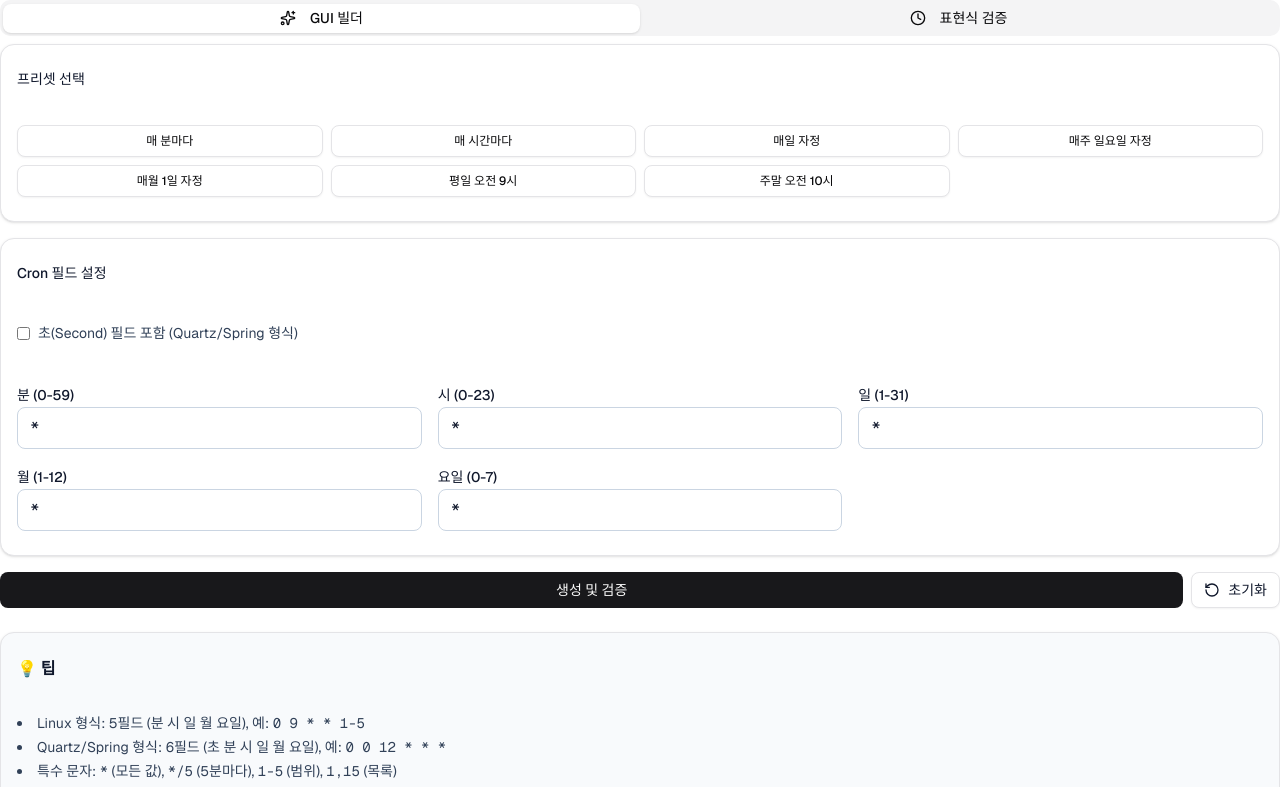
it: CronExpressionGenerator Component › 모드 전환 테스트 › 표현식 검증 탭 클릭 시 입력 필드 변경
Step 1. Click the tab "표현식 검증" → x=958, y=18, box [640,4,1277,32]
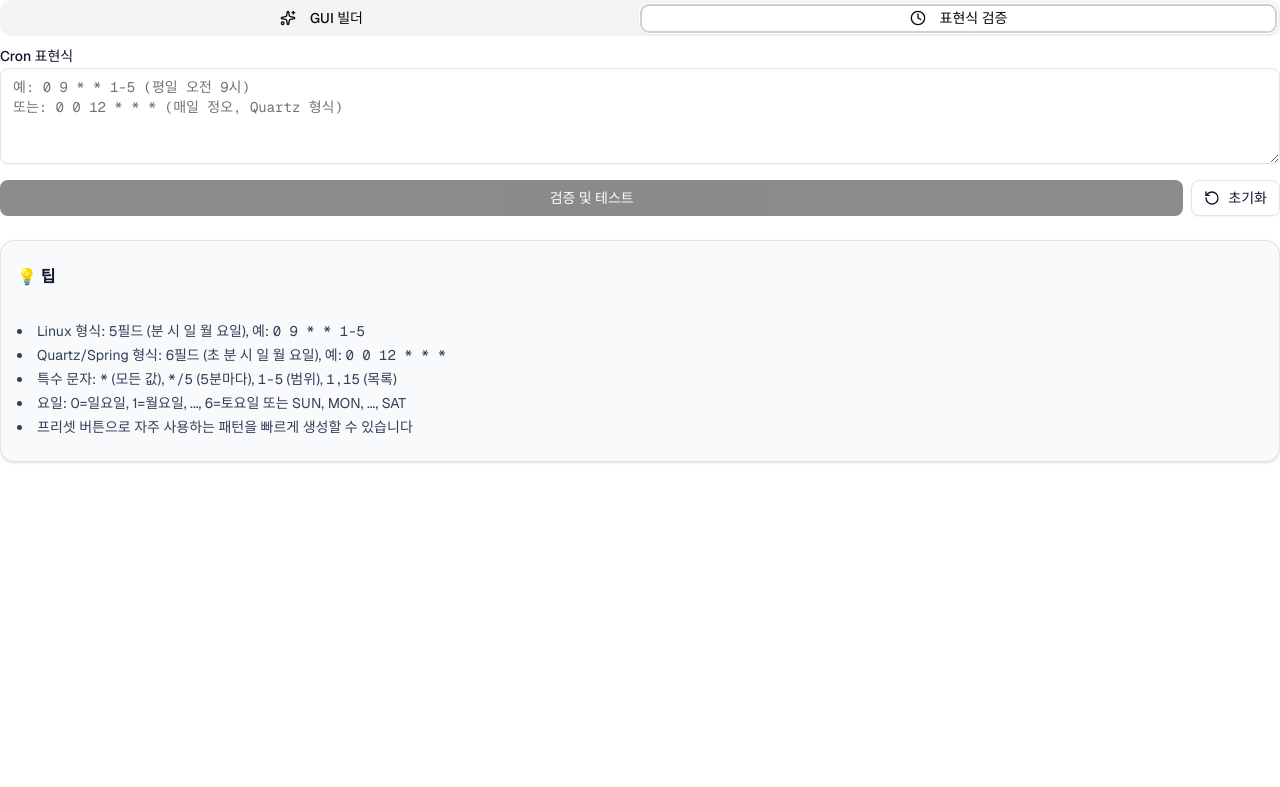
Result: the text "Cron 표현식" is shown at [0,47,73,65]
Result: the button "검증 및 테스트" is shown at [0,180,1183,216]
